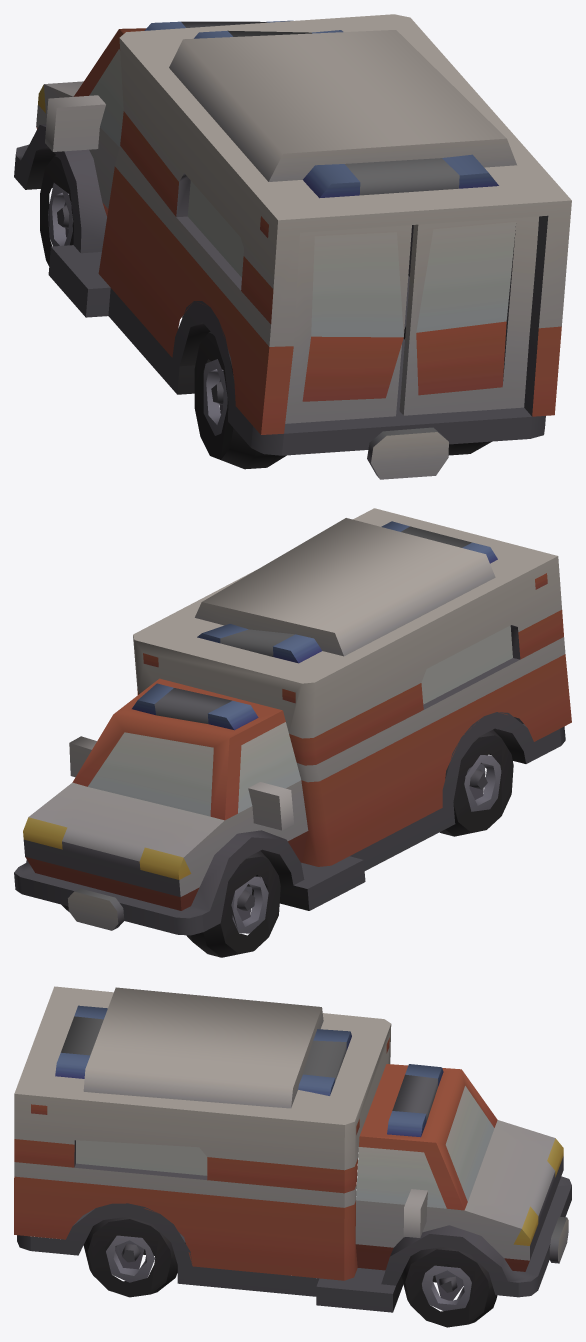
File: wreck_ambulance.glb
3 renders of one model, top to bottom at view 1: azimuth 30°, elevation 25°; view 2: azimuth 150°, elevation 25°; view 3: azimuth 270°, elevation 25°, orthographic. The views are drawn at different scales.
Visible parts, largest first — view 1: body_mesh; view 2: body_mesh; view 3: body_mesh.
Part boxes in pixels (bbox=[...]): body_mesh: bbox=[14, 14, 571, 479]; body_mesh: bbox=[14, 508, 571, 957]; body_mesh: bbox=[14, 986, 571, 1327].
Bounding box in the file's own units: 2.62 × 2.27 × 4.69.
Materials: 1 (1 with a texture image).
